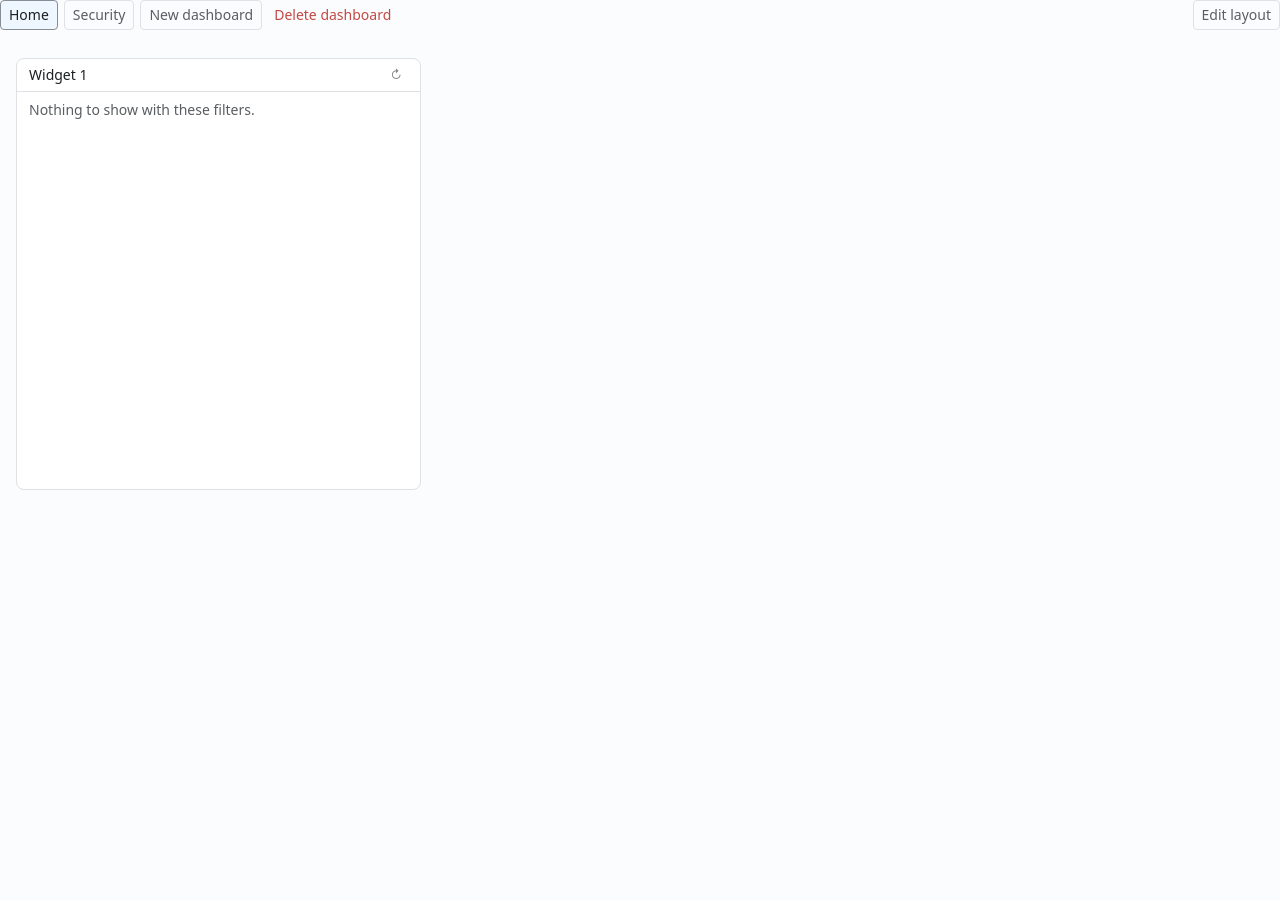
Test case: editing a dashboard › adds a widget through the dialog
Expected: the heading "Widget 1" is shown, [29,65,88,85]
Click the button "Edit layout".
click(1236, 15)  # box [1192,0,1279,30]
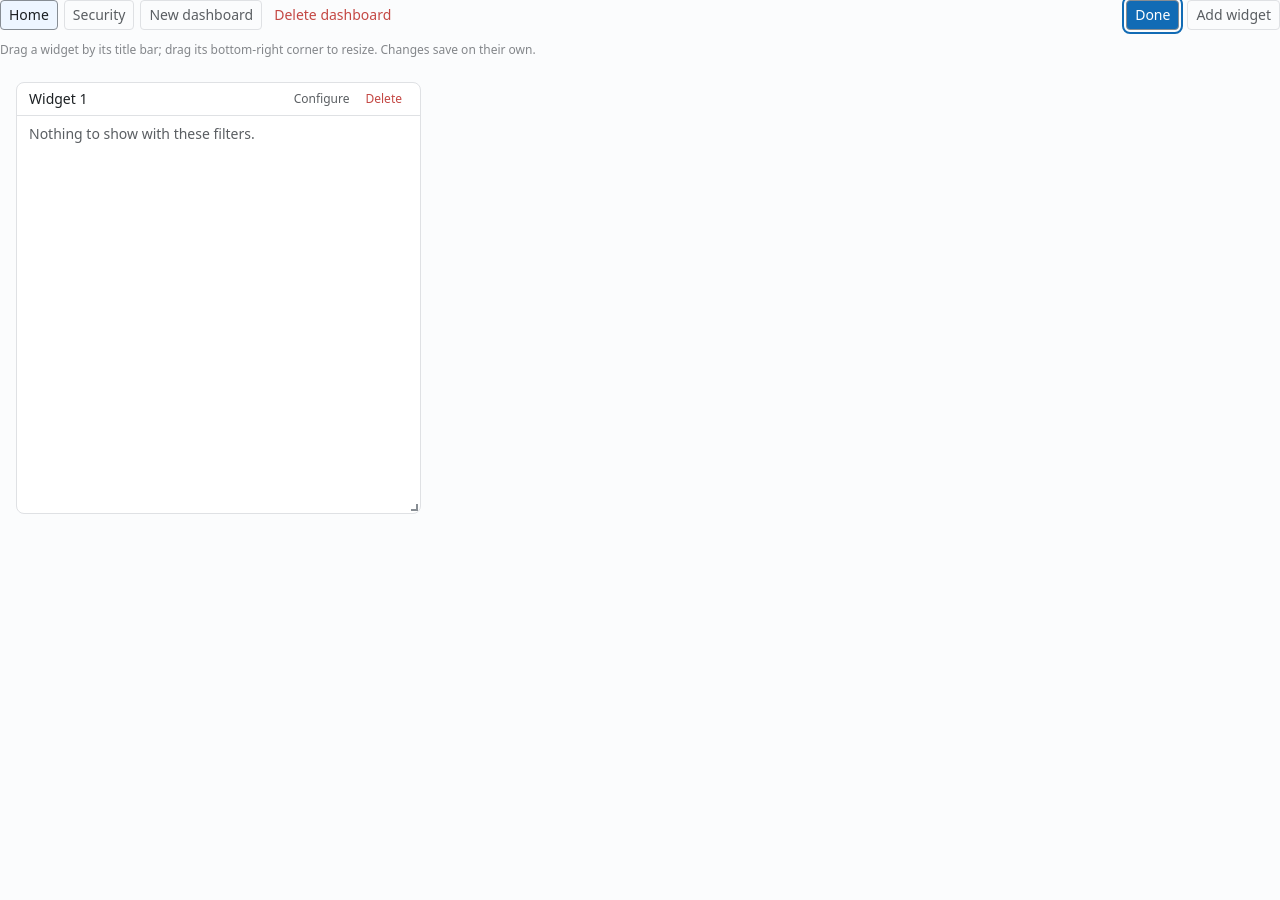
Click the button "Add widget".
click(1234, 15)  # box [1187,0,1279,30]
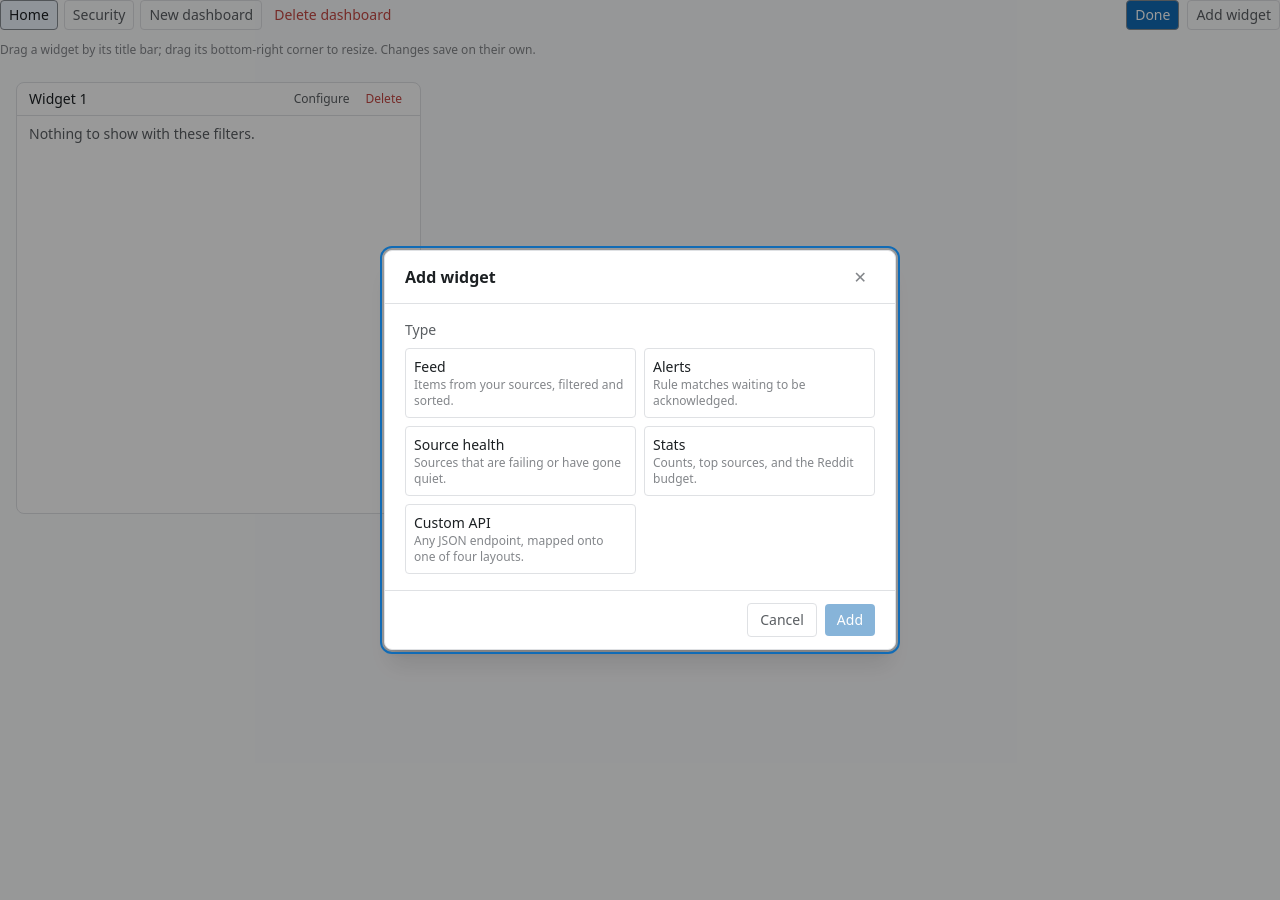
Click the button "Stats Counts, top sources, and the Reddit budget.".
click(760, 461)  # box [644,426,875,496]
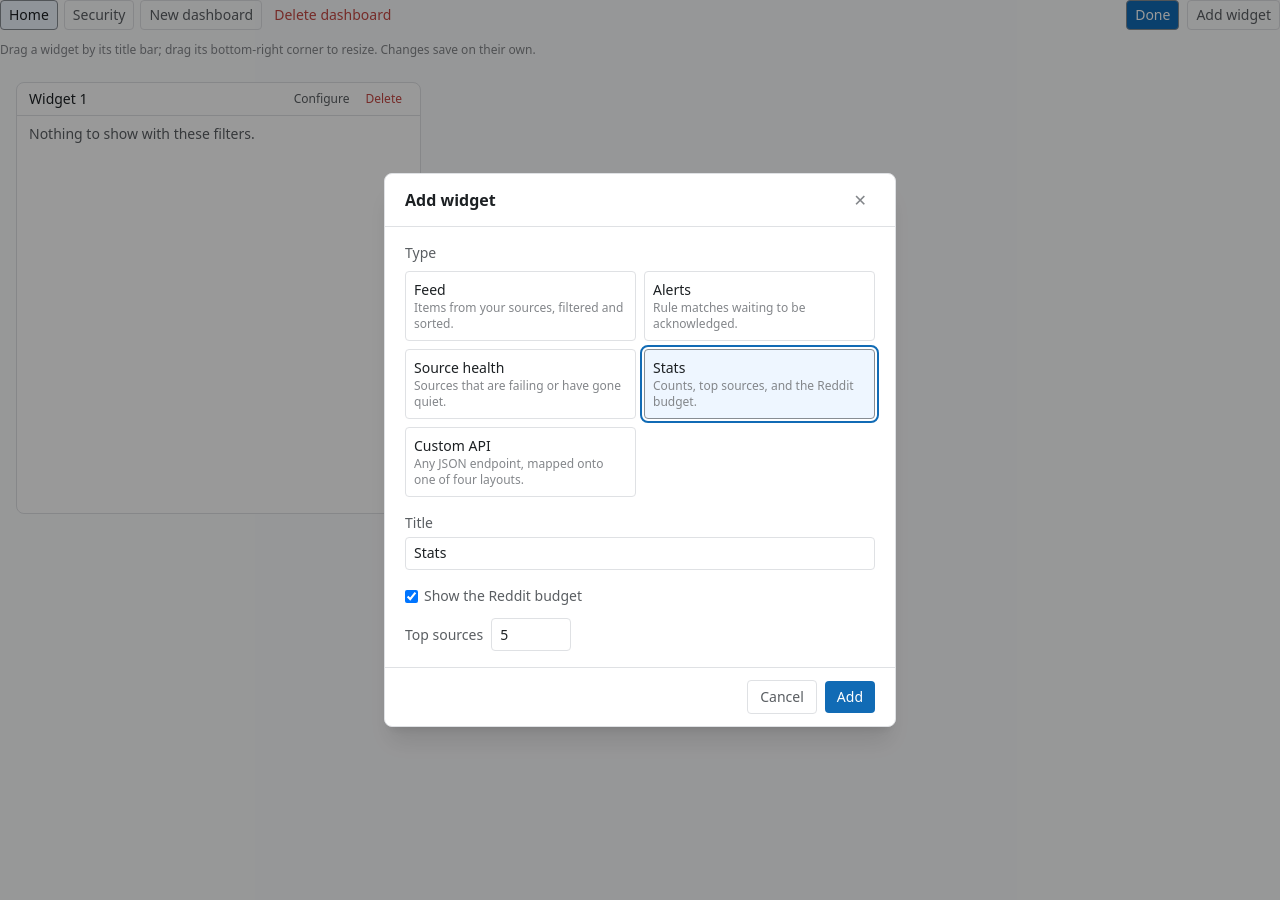
Click the button "Add".
click(850, 697)  # box [825,681,875,713]
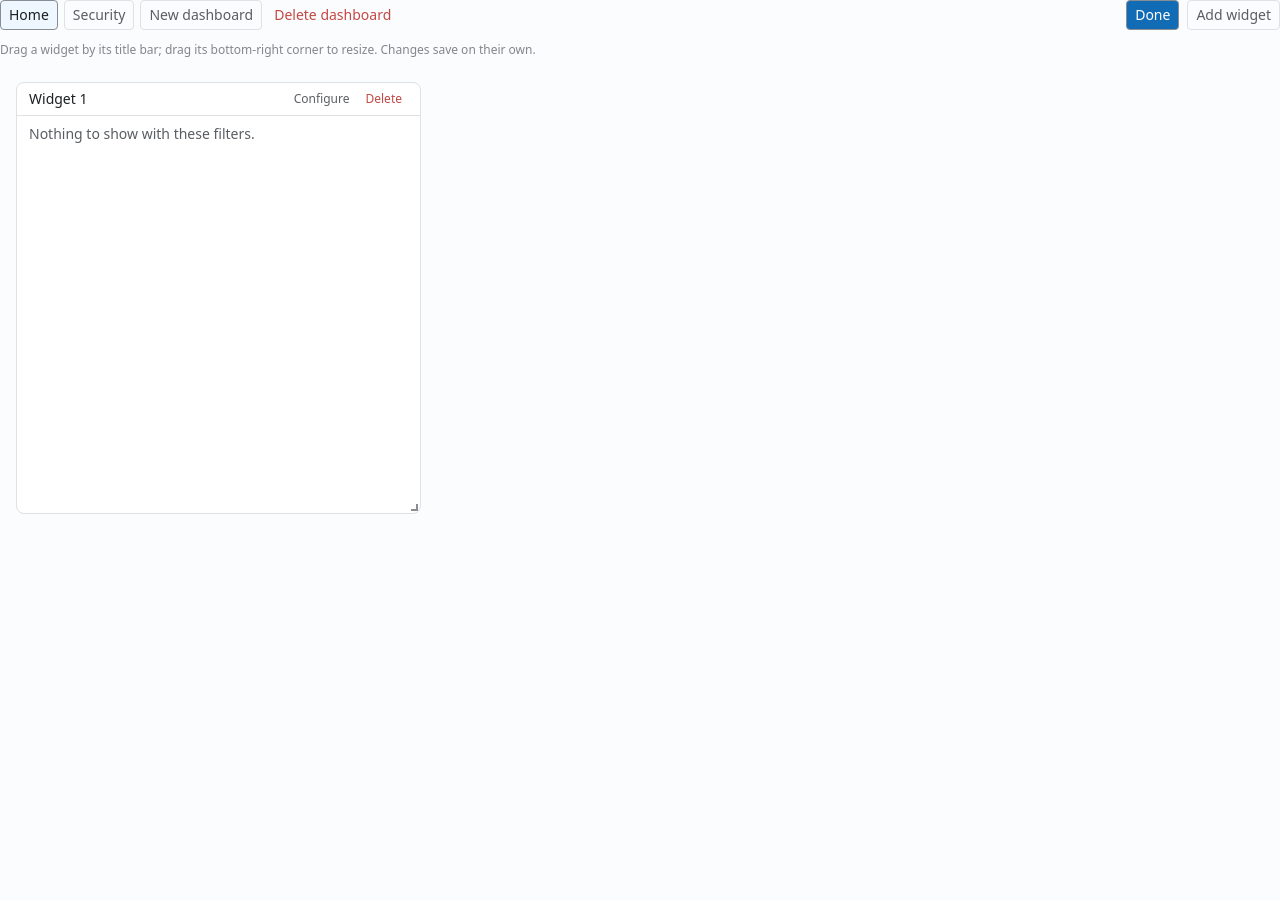
Result: the dialog is gone
